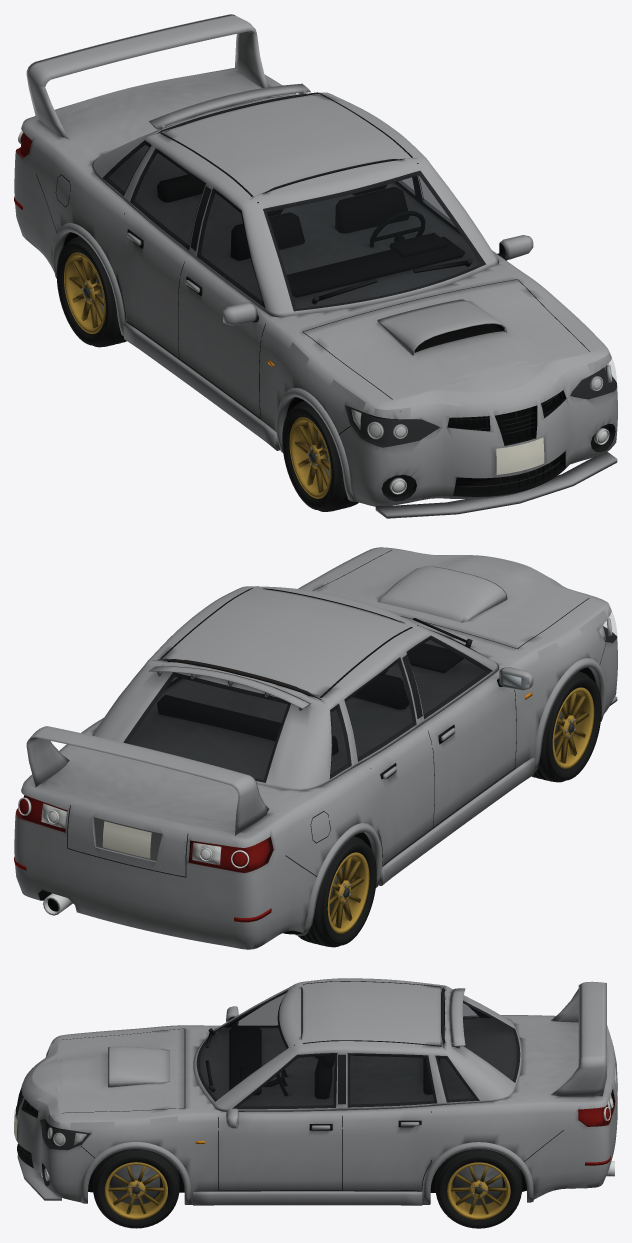
The model's file is subaru-impreza-wrx-sti.glb.
3 renders of one model, top to bottom at view 1: azimuth 30°, elevation 25°; view 2: azimuth 150°, elevation 25°; view 3: azimuth 270°, elevation 25°, orthographic. The views are drawn at different scales.
Parts seen in each view (by area): view 1: Coachwork, Body, Wheel_FR, Wheel_RR, Plate; view 2: Coachwork, Body, Wheel_RR, Wheel_FR, Taillights, Plate; view 3: Coachwork, Body, Wheel_RL, Wheel_FL, Taillights.
Part boxes in pixels (left/top/right/bottom): Coachwork: left=14, top=68, right=617, bottom=506; Body: left=14, top=14, right=617, bottom=518; Wheel_FR: left=282, top=401, right=358, bottom=511; Wheel_RR: left=56, top=236, right=126, bottom=347; Plate: left=496, top=437, right=544, bottom=474; Coachwork: left=14, top=547, right=617, bottom=949; Body: left=14, top=550, right=617, bottom=936; Wheel_RR: left=298, top=836, right=376, bottom=947; Wheel_FR: left=532, top=671, right=601, bottom=782; Taillights: left=19, top=795, right=269, bottom=871; Plate: left=102, top=821, right=151, bottom=858; Coachwork: left=15, top=1015, right=617, bottom=1204; Body: left=17, top=978, right=617, bottom=1205; Wheel_RL: left=435, top=1149, right=522, bottom=1228; Wheel_FL: left=93, top=1149, right=179, bottom=1228; Taillights: left=578, top=1104, right=609, bottom=1125.
Size of the model in its own units: 1.99 by 1.42 by 4.48.
